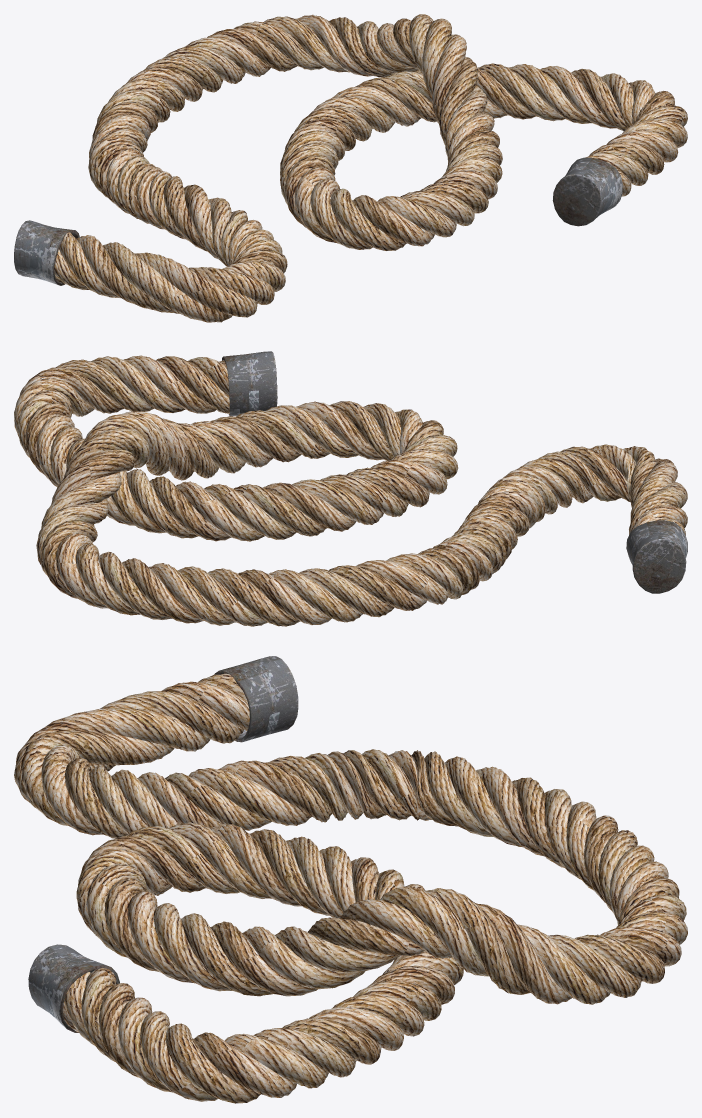
File: Rope.fbx
The picture shows the model from 3 angles, top to bottom: view 1: azimuth 30°, elevation 25°; view 2: azimuth 150°, elevation 25°; view 3: azimuth 270°, elevation 25°; orthographic projection. The views are drawn at different scales.
Parts seen in each view (by area): view 1: pCylinder6, pPipe1, pPipe2; view 2: pCylinder6, pPipe2, pPipe1; view 3: pCylinder6, pPipe2, pPipe1.
Boxes of the visible parts, x1,y1,x2,y2 form: pCylinder6: (54,14,687,322); pPipe1: (552,157,622,226); pPipe2: (14,220,79,285); pCylinder6: (14,355,687,626); pPipe2: (626,520,687,593); pPipe1: (222,351,277,416); pCylinder6: (14,673,687,1103); pPipe2: (214,656,298,742); pPipe1: (28,944,119,1032).
Bounding box in the file's own units: 45.61 × 6.96 × 32.41.
Materials: 2 (2 with a texture image).
